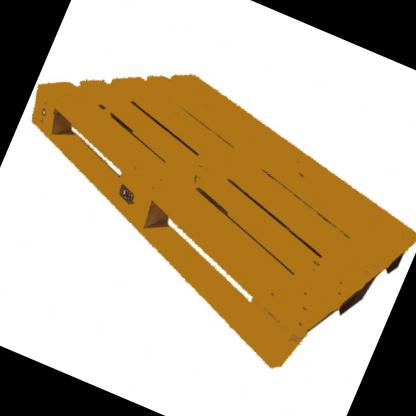BoxFace: (26, 68, 416, 373)
